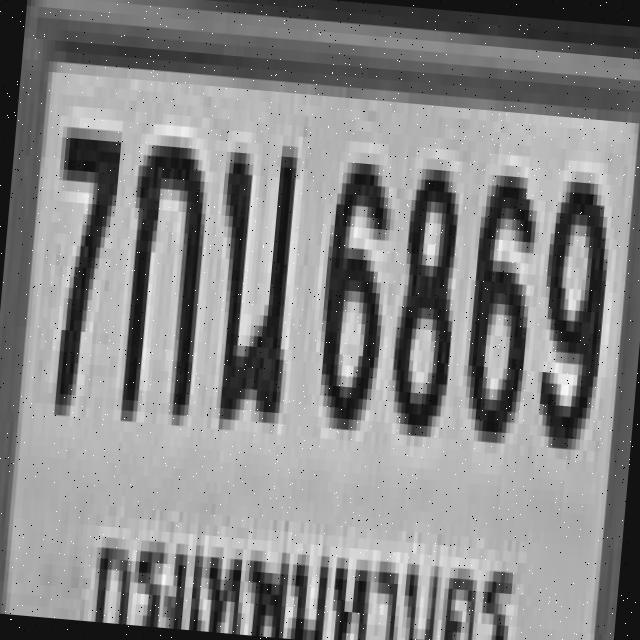10GorGai: (113, 127, 208, 420)
34NorNu: (204, 130, 298, 423)
6: (309, 150, 392, 420), (458, 163, 536, 433)
7: (38, 115, 118, 407)
8: (384, 156, 462, 426)
9: (529, 168, 611, 440)
Bangkok: (85, 502, 524, 640)
